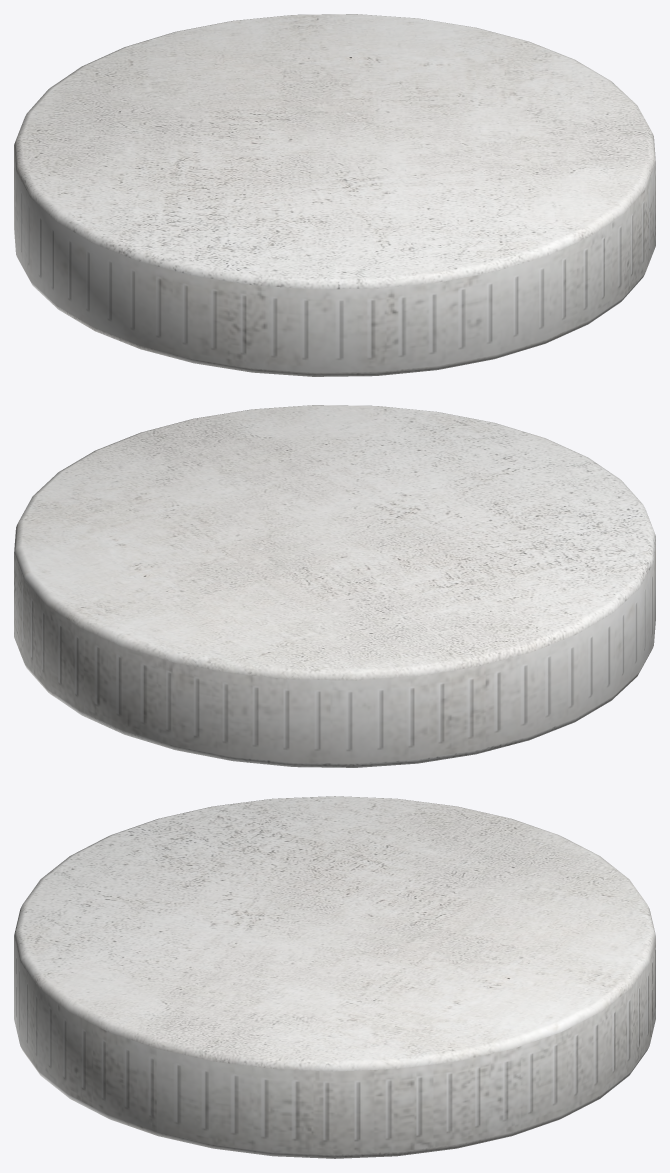
Rendered from cilindar.fbx.
The picture shows the model from 3 angles, top to bottom: view 1: azimuth 30°, elevation 25°; view 2: azimuth 150°, elevation 25°; view 3: azimuth 270°, elevation 25°; orthographic projection.
Parts seen in each view (by area): view 1: Cylinder; view 2: Cylinder; view 3: Cylinder.
Part boxes in pixels (<box>): Cylinder: <box>14,14,655,376</box>; Cylinder: <box>14,405,655,767</box>; Cylinder: <box>14,796,655,1158</box>.
Bounding box in the file's own units: 200 × 33.59 × 200.
Materials: 1 (1 with a texture image).
